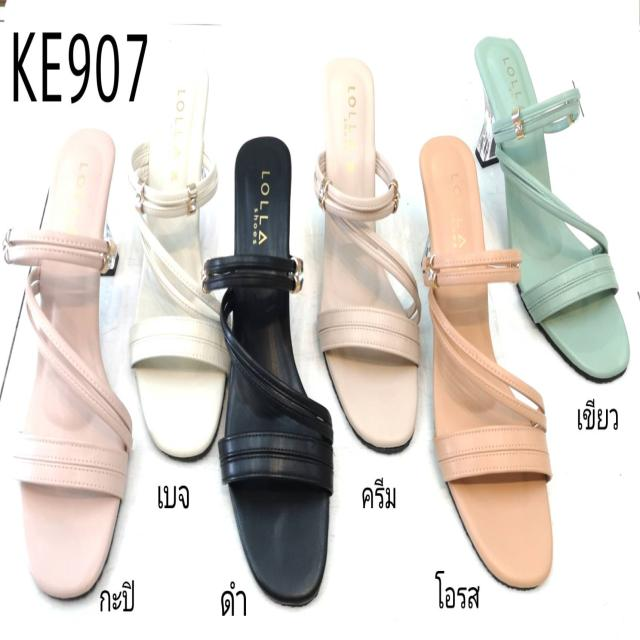bej: (125, 61, 227, 454)
black: (220, 136, 331, 601)
cream: (319, 54, 418, 449), (0, 134, 18, 149), (26, 150, 27, 157)
green: (471, 35, 631, 383)
kapi: (7, 129, 132, 599)
orot: (415, 135, 553, 592)
